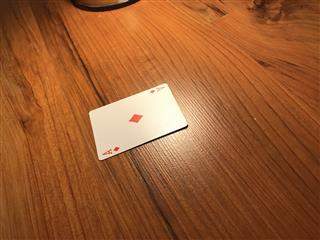AceOfDiamonds: (88, 82, 188, 160)
